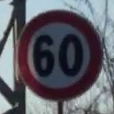limite 60: (15, 8, 105, 103)
